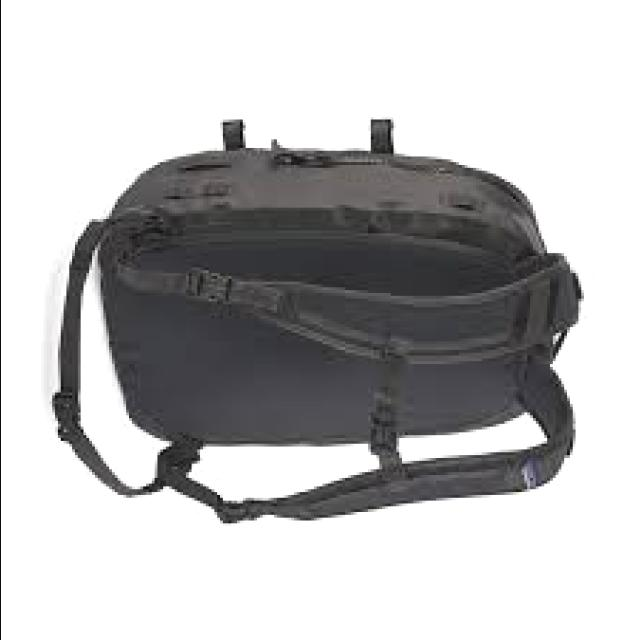backpack: (52, 118, 587, 525)
